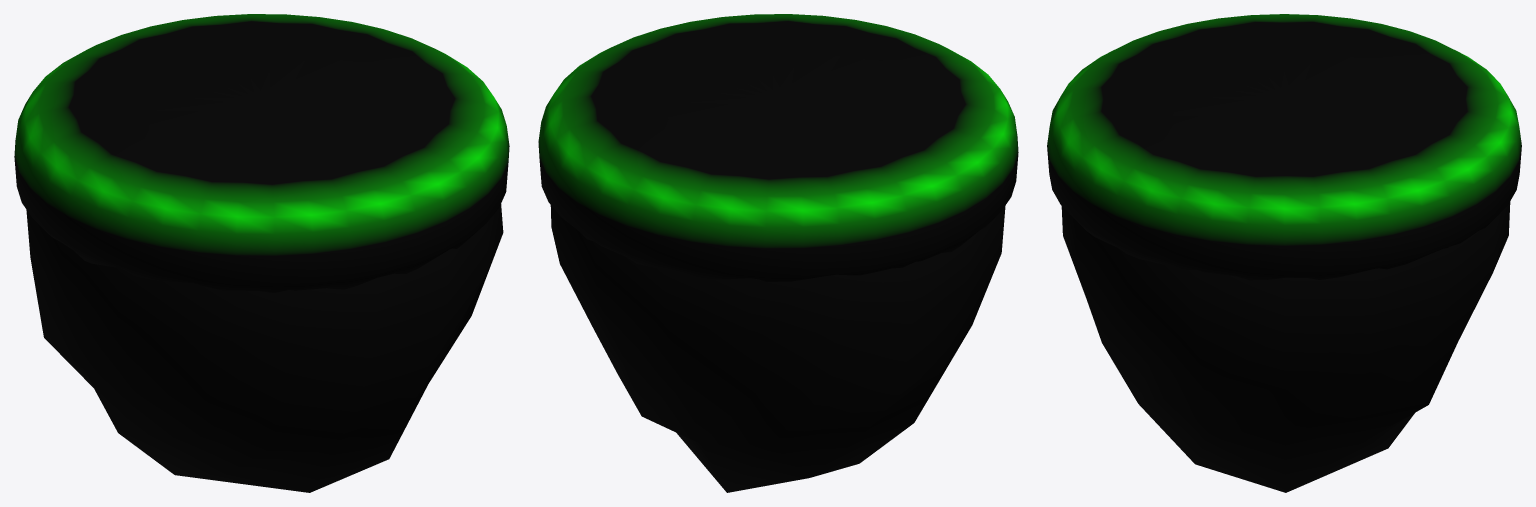
The model's file is FloatingIsland.fbx.
3 views of the same model, side by side, from view 1: azimuth 30°, elevation 25°; view 2: azimuth 150°, elevation 25°; view 3: azimuth 270°, elevation 25° (orthographic). The views are drawn at different scales.
Visible parts, largest first — view 1: polySurface1; view 2: polySurface1; view 3: polySurface1.
Boxes of the visible parts, box(x1,y1,x2,y2) form: polySurface1: box(14, 14, 509, 492); polySurface1: box(538, 14, 1018, 492); polySurface1: box(1047, 14, 1521, 492).
Bounding box in the file's own units: 0.2569 × 0.2193 × 0.2569.
